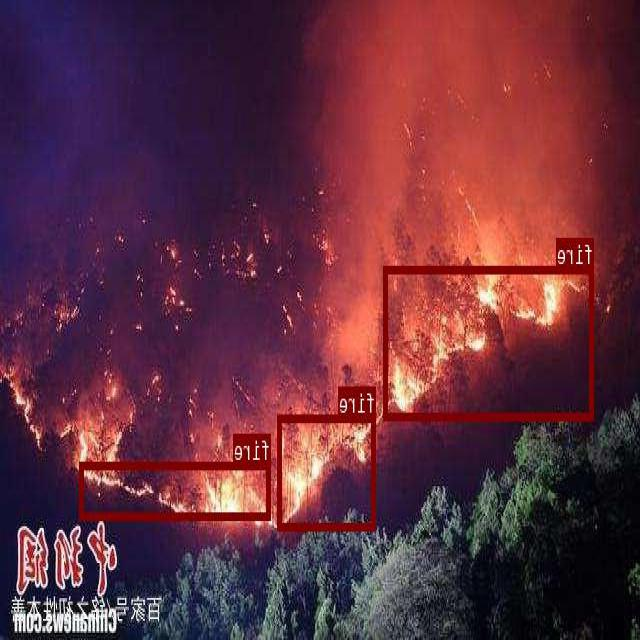fire: (384, 265, 594, 419), (278, 414, 376, 530), (81, 461, 271, 518)
